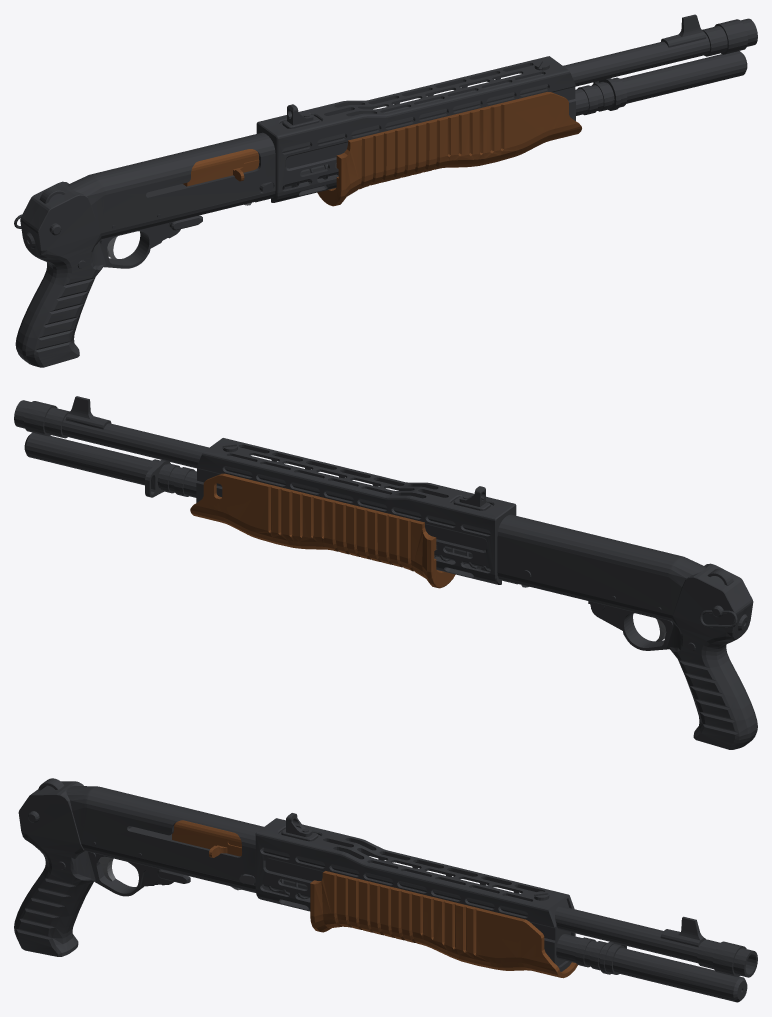
File: shotgun.glb
3 renders of one model, top to bottom at view 1: azimuth 30°, elevation 25°; view 2: azimuth 150°, elevation 25°; view 3: azimuth 330°, elevation 25°, orthographic.
Visible parts, largest first — view 1: Body, Pump; view 2: Body, Pump; view 3: Body, Pump.
Boxes of the visible parts, <box> form: Body: <box>14,14,757,367</box>; Pump: <box>183,92,581,206</box>; Body: <box>14,396,757,749</box>; Pump: <box>190,473,455,588</box>; Body: <box>14,778,757,1002</box>; Pump: <box>172,820,577,978</box>.
Bounding box in the file's own units: 0.9527 × 0.2393 × 0.0696.
